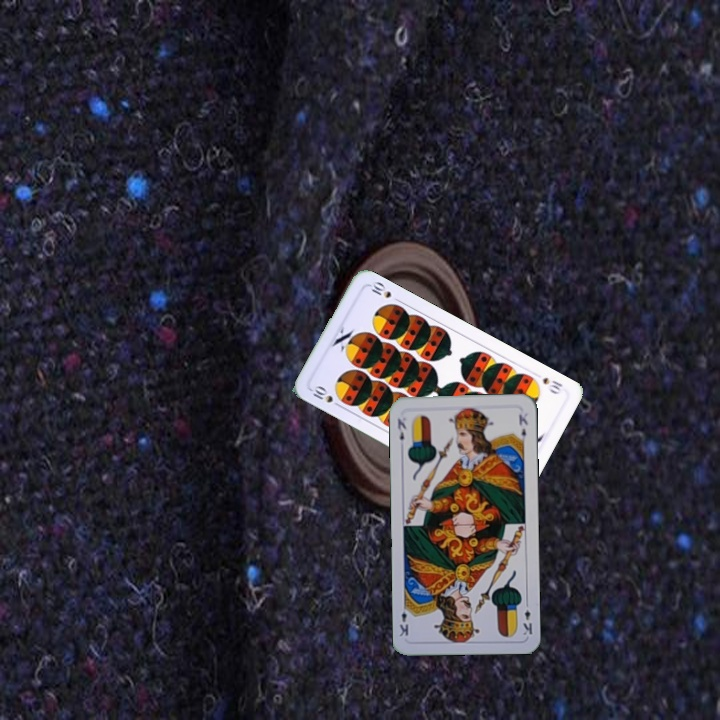EK: (519, 597, 535, 638), (393, 414, 409, 442)
S10: (309, 382, 344, 410), (539, 373, 565, 397)
